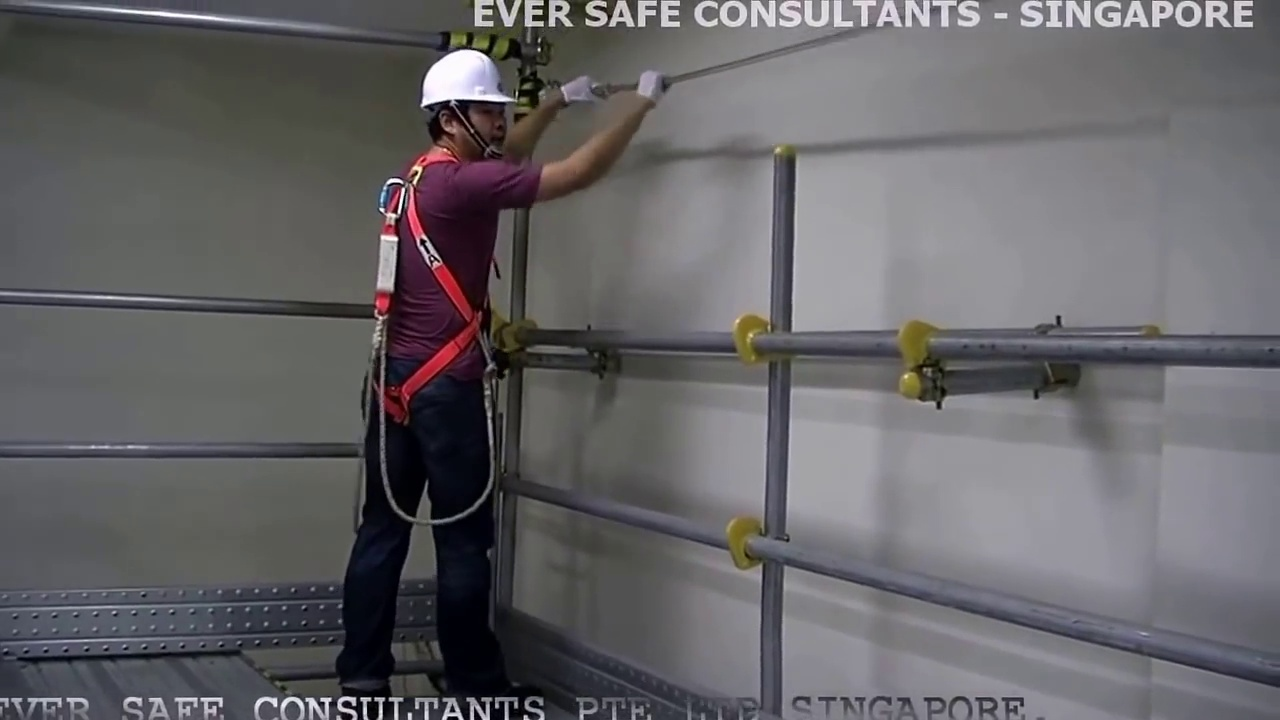harness: (371, 152, 473, 400)
helmet: (419, 50, 509, 105)
leash: (355, 417, 501, 525)
